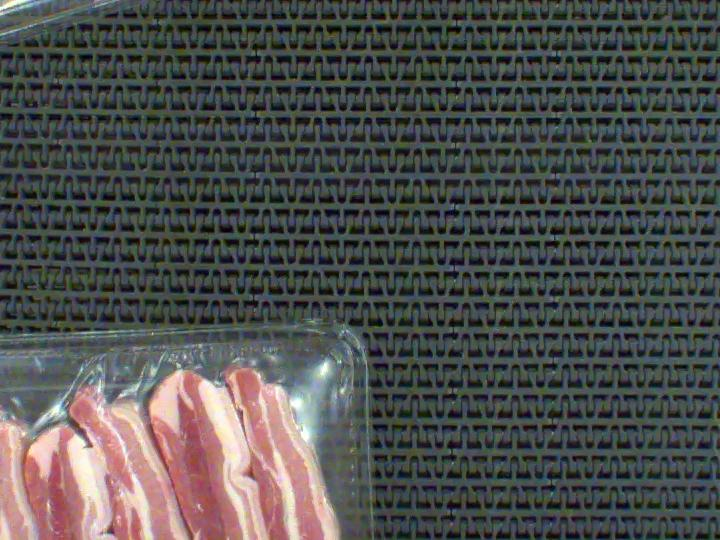unsealed: (0, 365, 345, 540)
